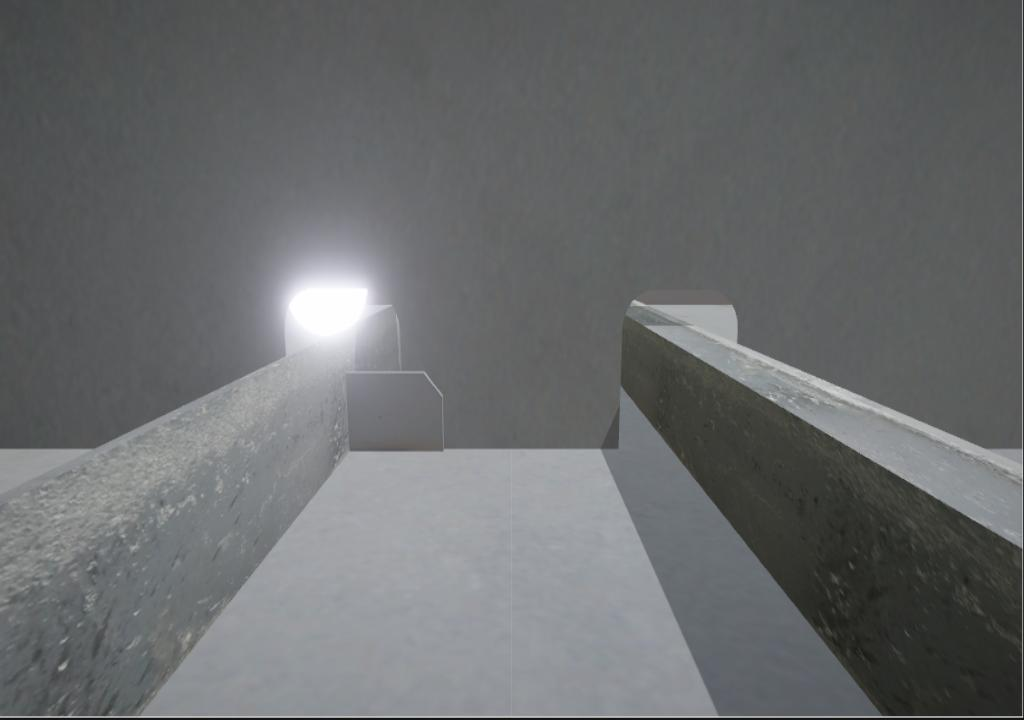fillet_yong_jeop_jang: (442, 436, 631, 461)
plate_CP03: (344, 370, 443, 450)
